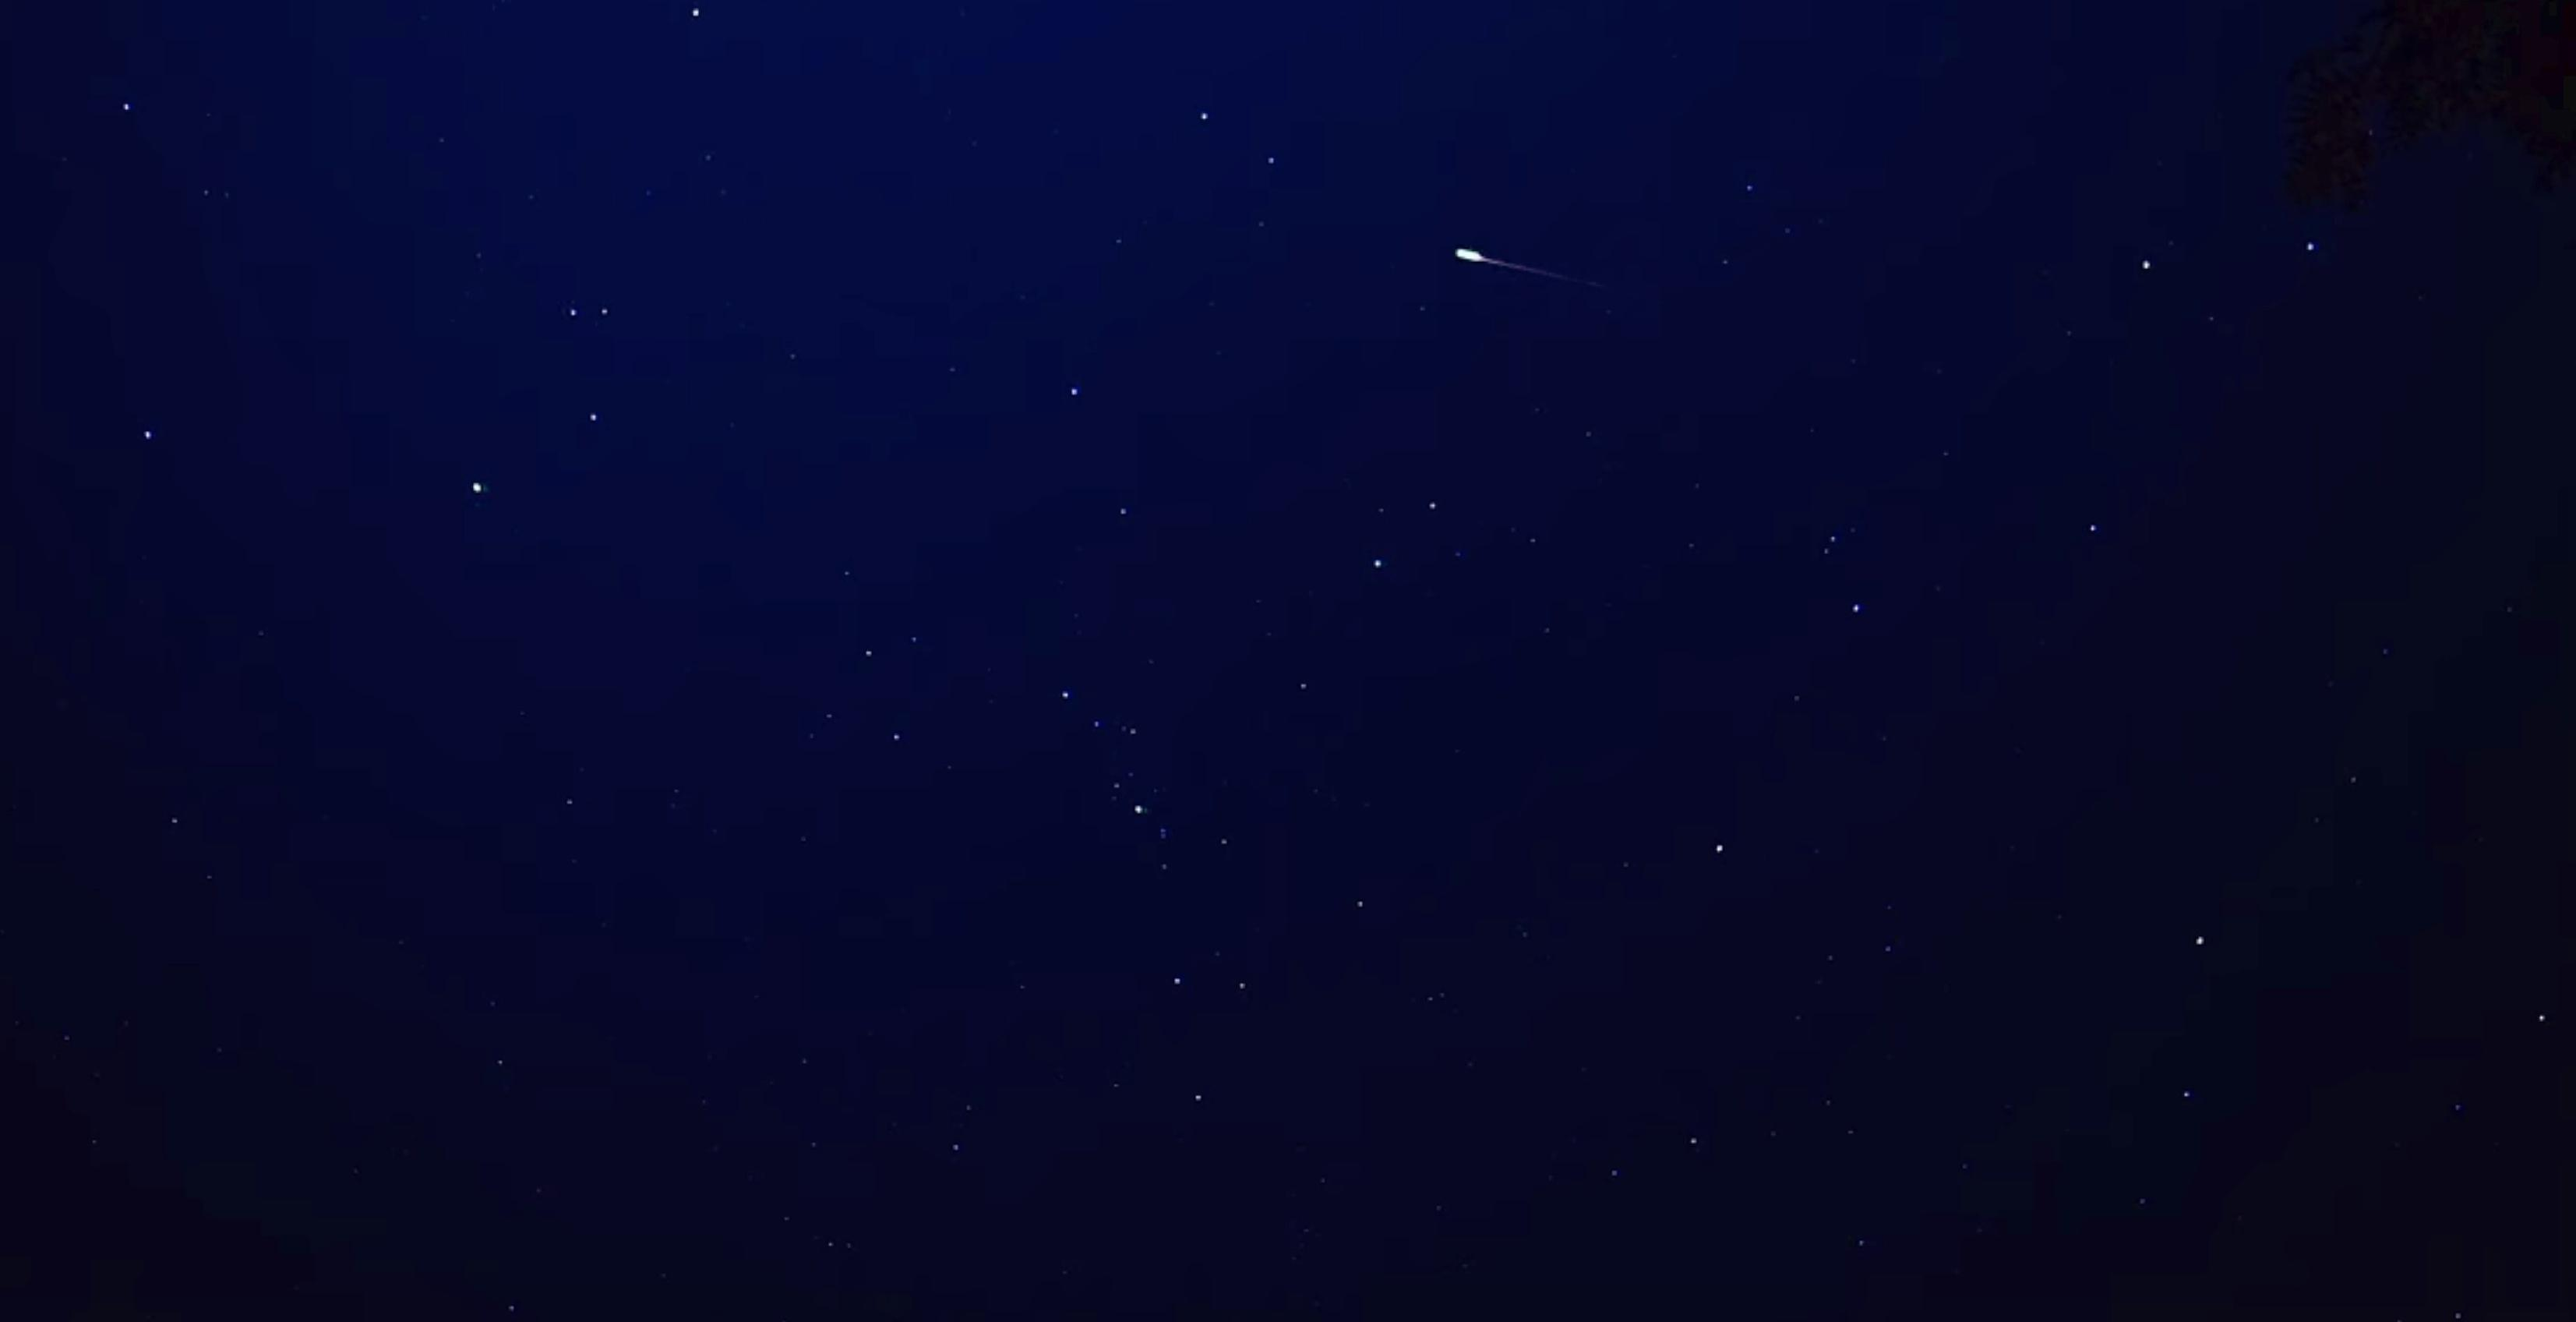meteorite: (1387, 236, 1676, 298)
